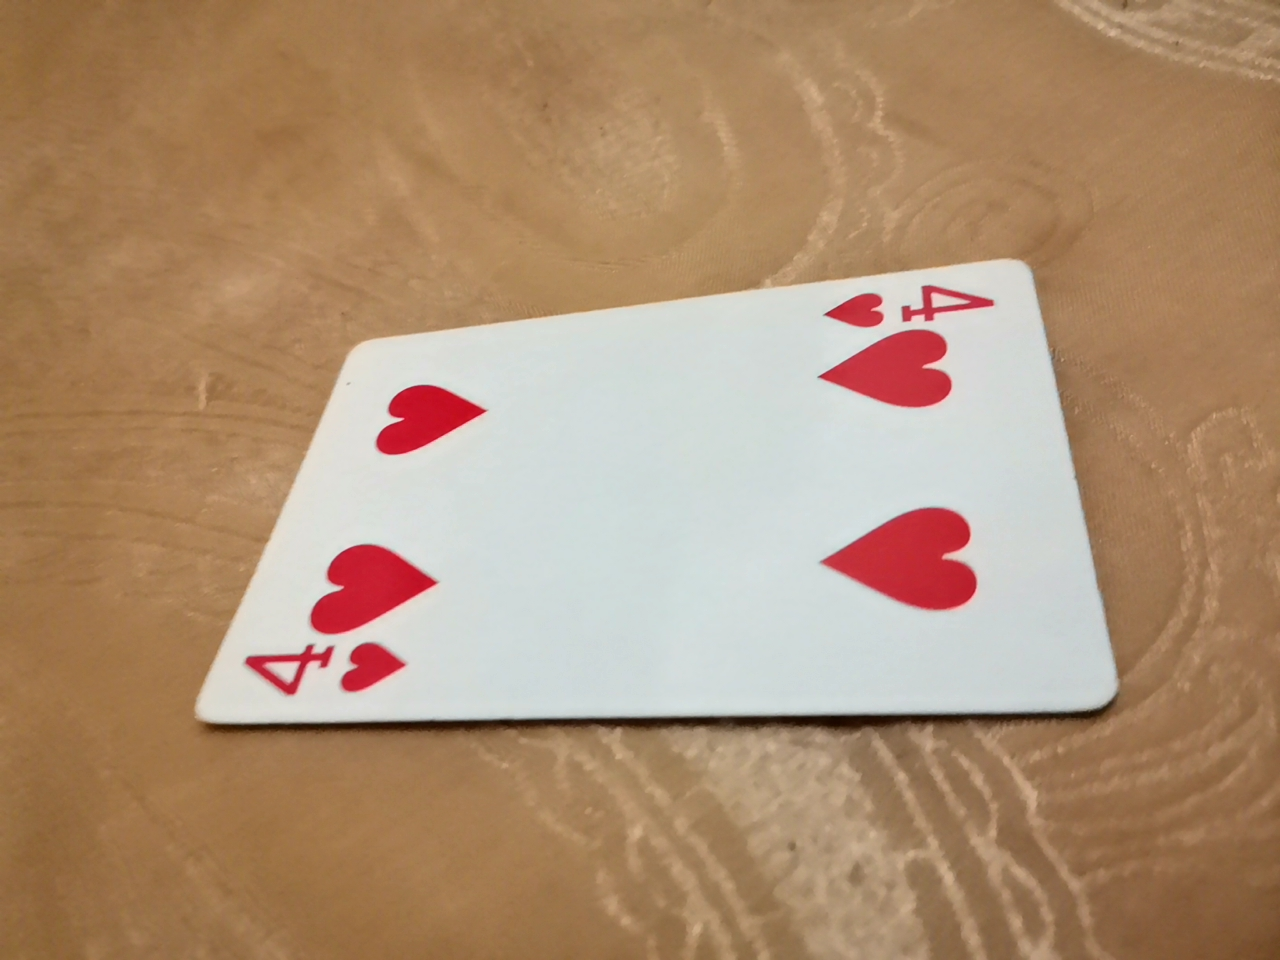hx 4: (213, 285, 1118, 786)
